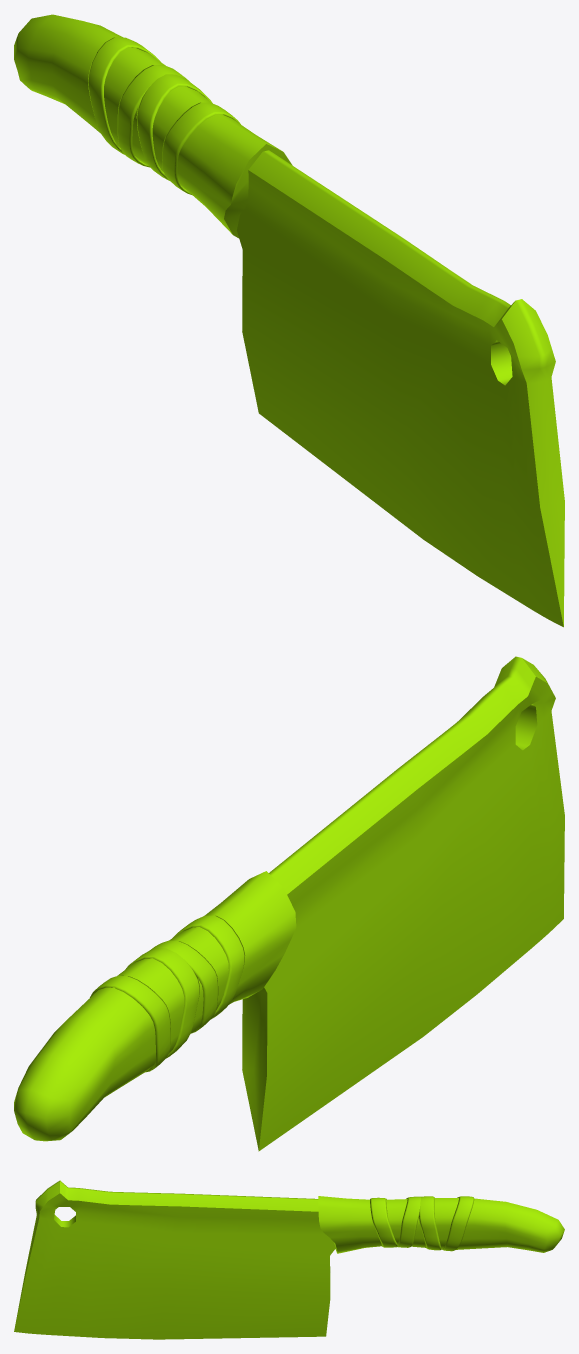
The model's file is object_Butcher_sKnife_nonGrapple.fbx.
3 views of the same model, one above another, from view 1: azimuth 30°, elevation 25°; view 2: azimuth 150°, elevation 25°; view 3: azimuth 270°, elevation 25° (orthographic). The views are drawn at different scales.
Visible parts, largest first — view 1: Butcher_sKnife_blade, Butcher_sKnife_Handel, Butcher_sKnife_Handel_wraps; view 2: Butcher_sKnife_blade, Butcher_sKnife_Handel, Butcher_sKnife_Handel_wraps; view 3: Butcher_sKnife_blade, Butcher_sKnife_Handel, Butcher_sKnife_Handel_wraps.
Boxes of the visible parts, x1,y1,x2,y2 form: Butcher_sKnife_blade: (237, 150, 564, 627); Butcher_sKnife_Handel: (14, 14, 292, 238); Butcher_sKnife_Handel_wraps: (88, 37, 240, 194); Butcher_sKnife_blade: (242, 656, 564, 1151); Butcher_sKnife_Handel: (14, 871, 296, 1141); Butcher_sKnife_Handel_wraps: (90, 915, 245, 1072); Butcher_sKnife_blade: (14, 1180, 335, 1339); Butcher_sKnife_Handel: (318, 1196, 564, 1253); Butcher_sKnife_Handel_wraps: (370, 1196, 474, 1251).
Bounding box in the file's own units: 1.97 × 8.38 × 26.42.
